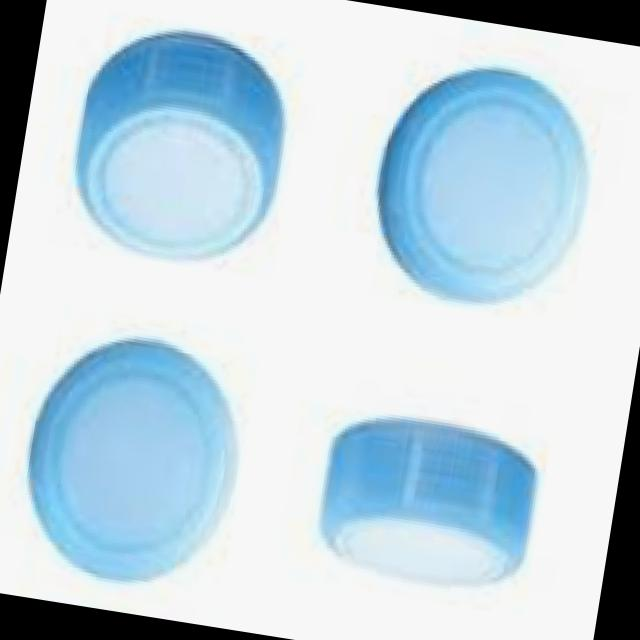Kardus: (5, 332, 257, 611), (54, 17, 300, 281), (362, 55, 598, 313), (304, 402, 548, 613)
